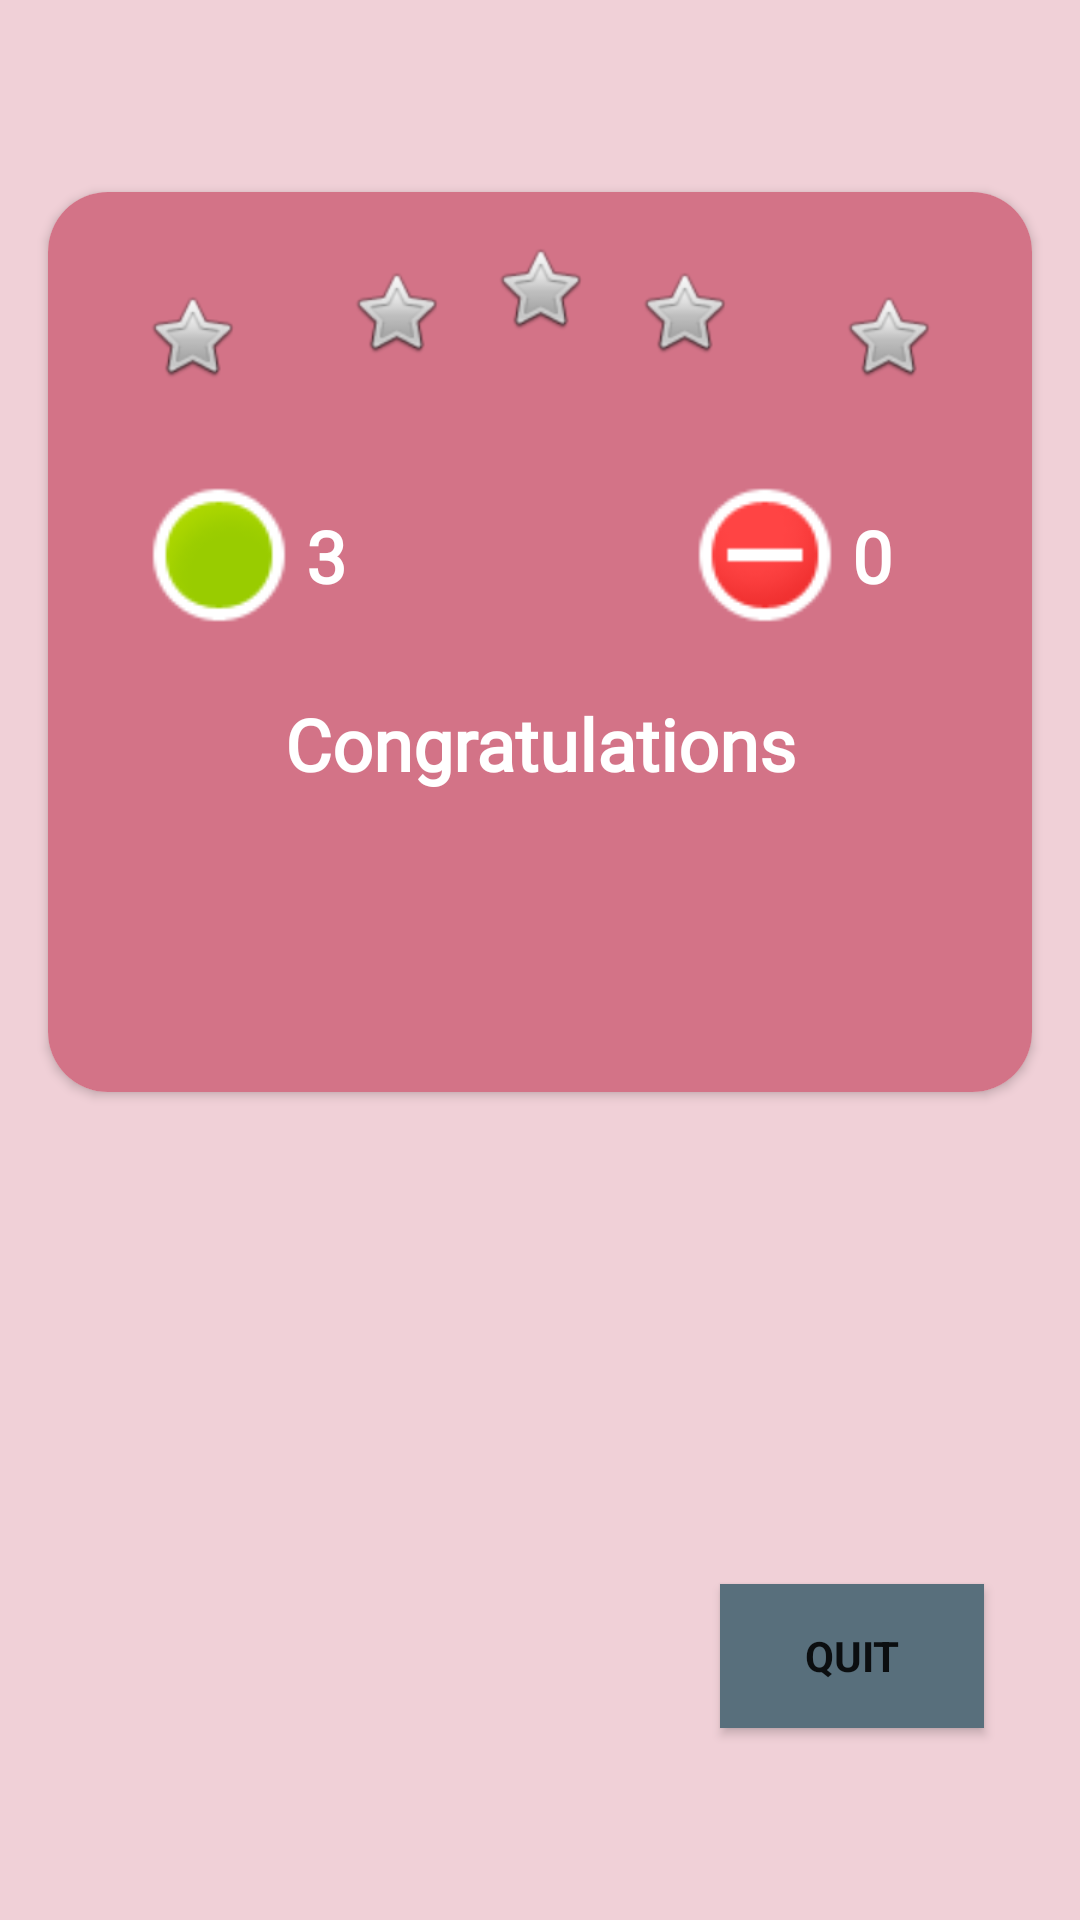

Screen size 1080 x 1920. Icon name, then its center in pixels as [x,y]:
correct answer result: [219,555]
star: [889,337]
wrong answer result: [765,555]
